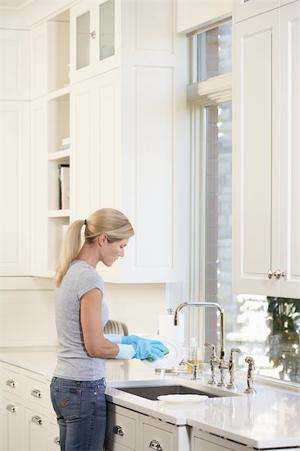person: (48, 209, 136, 451)
